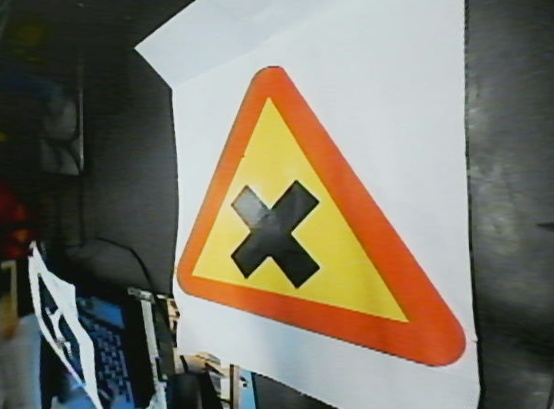junction: (164, 74, 467, 367)
